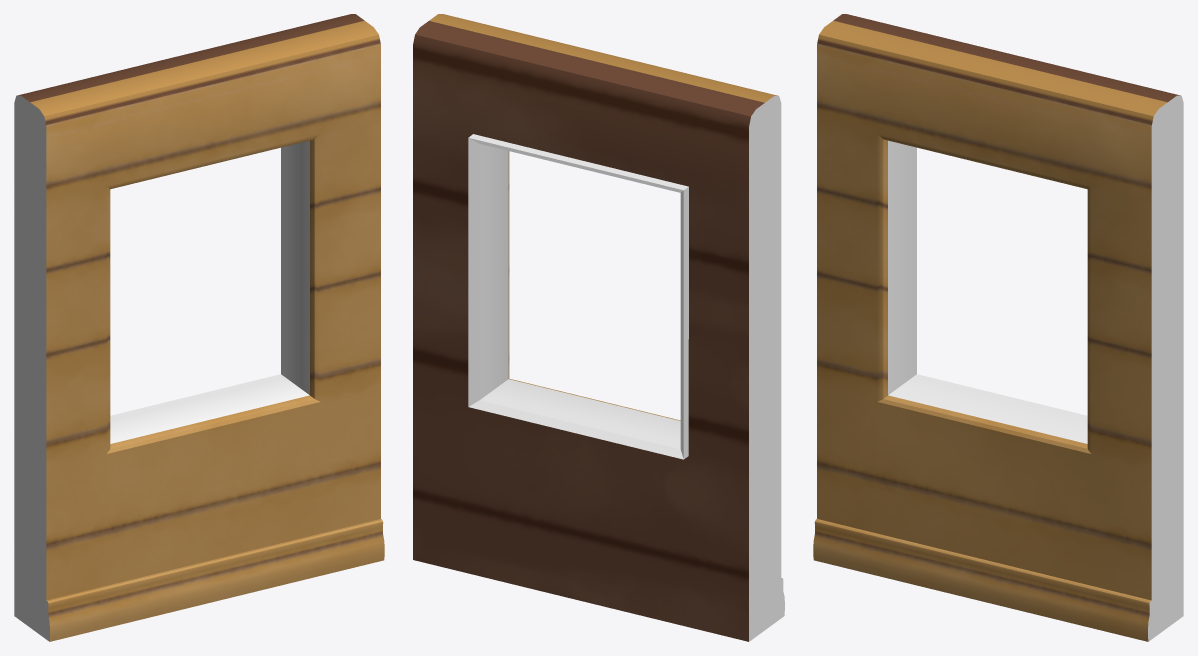
File: Wall_outer_Window_02.fbx
3 renders of one model, left to right at view 1: azimuth 30°, elevation 25°; view 2: azimuth 150°, elevation 25°; view 3: azimuth 330°, elevation 25°, orthographic.
Parts seen in each view (by area): view 1: OuterWall_Hor_00.009; view 2: OuterWall_Hor_00.009; view 3: OuterWall_Hor_00.009.
Part boxes in pixels (left/top/right/bottom): OuterWall_Hor_00.009: left=14, top=14, right=384, bottom=641; OuterWall_Hor_00.009: left=413, top=14, right=784, bottom=641; OuterWall_Hor_00.009: left=813, top=14, right=1183, bottom=641.
Size of the model in its own units: 100 by 150 by 21.05.
